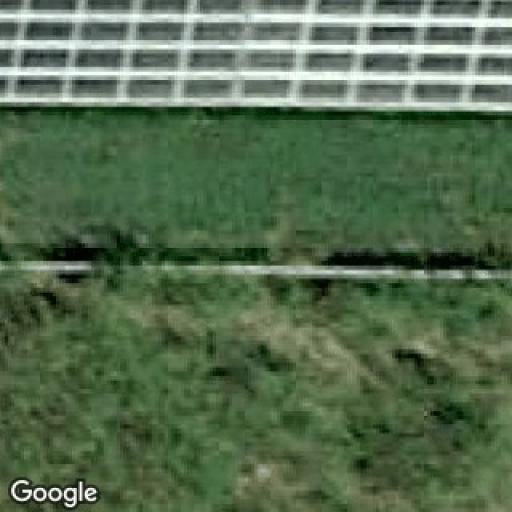solar-panel: (0, 0, 512, 110)
